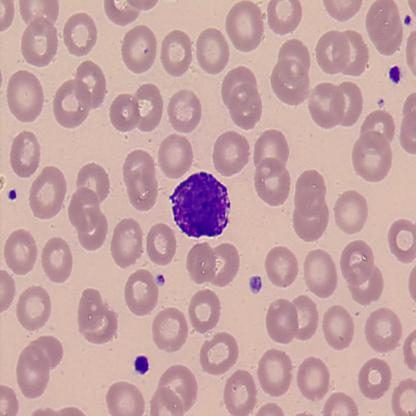Basophil: (168, 169, 233, 242)
